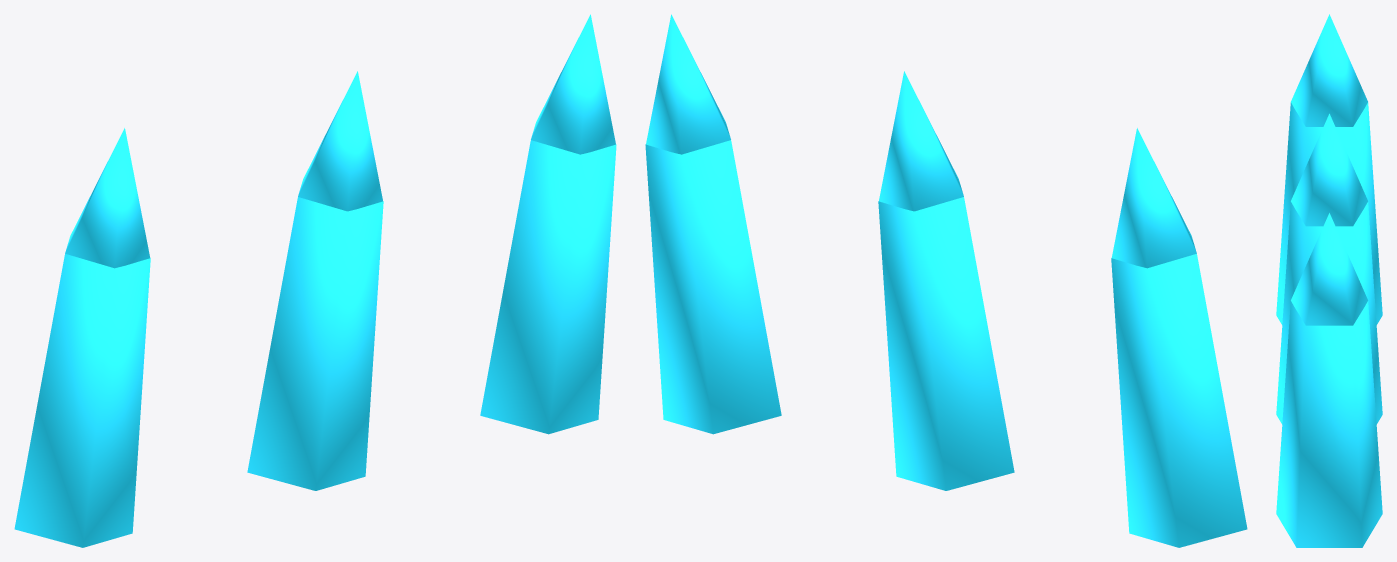
File: crystal_wave.glb
3 views of the same model, side by side, from view 1: azimuth 30°, elevation 25°; view 2: azimuth 150°, elevation 25°; view 3: azimuth 270°, elevation 25° (orthographic). The views are drawn at different scales.
Parts seen in each view (by area): view 1: crystal_wave; view 2: crystal_wave; view 3: crystal_wave.
Part boxes in pixels (left/top/right/bottom): crystal_wave: left=14, top=14, right=616, bottom=547; crystal_wave: left=645, top=14, right=1247, bottom=547; crystal_wave: left=1276, top=14, right=1382, bottom=547.
Size of the model in its own units: 1.52 by 0.9585 by 0.272.
